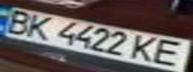2: (106, 28, 133, 58), (90, 25, 112, 55)
4: (48, 19, 78, 47), (72, 24, 96, 51)
B: (0, 8, 36, 35)
E: (148, 37, 193, 67)
K: (18, 12, 57, 41), (127, 34, 163, 64)
